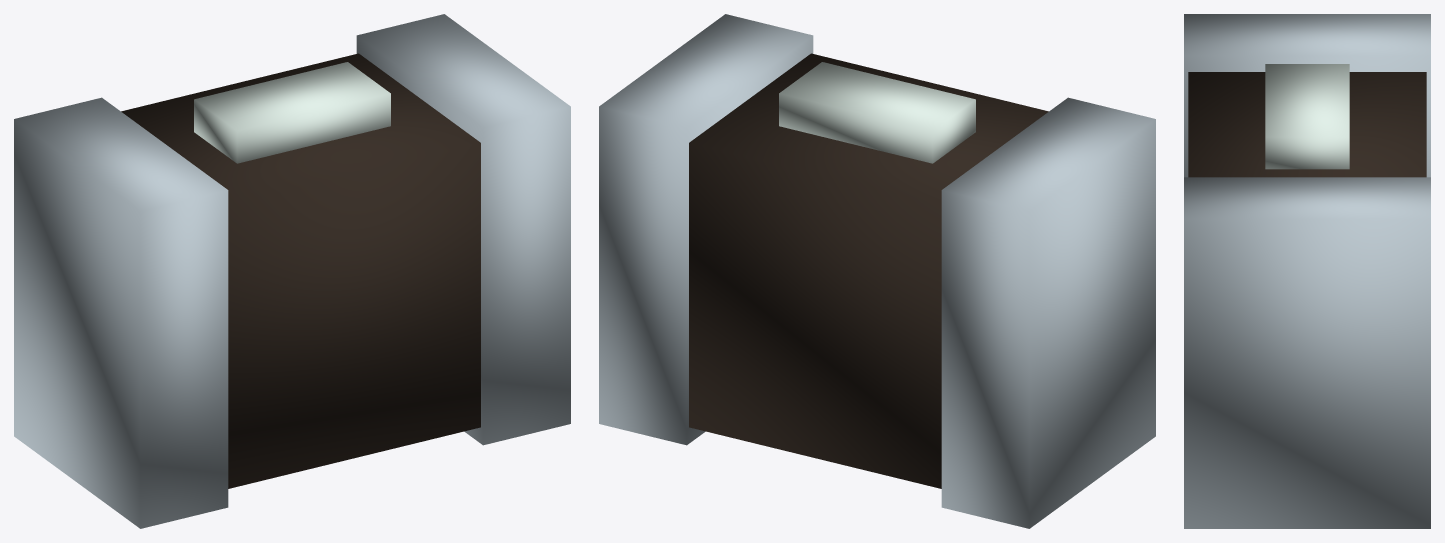
The model's file is 30_L94_R6_StatusLED_330R.fbx.
3 renders of one model, left to right at view 1: azimuth 30°, elevation 25°; view 2: azimuth 150°, elevation 25°; view 3: azimuth 270°, elevation 25°, orthographic. The views are drawn at different scales.
Visible parts, largest first — view 1: L94_StatusLED_330R_Part_0001, L94_StatusLED_330R_Part_0000, L94_StatusLED_330R_Part_0002; view 2: L94_StatusLED_330R_Part_0001, L94_StatusLED_330R_Part_0000, L94_StatusLED_330R_Part_0002; view 3: L94_StatusLED_330R_Part_0001, L94_StatusLED_330R_Part_0000, L94_StatusLED_330R_Part_0002.
Part boxes in pixels (x1=…): L94_StatusLED_330R_Part_0001: x1=14, y1=14, x2=570, y2=528; L94_StatusLED_330R_Part_0000: x1=121, y1=53, x2=480, y2=488; L94_StatusLED_330R_Part_0002: x1=194, y1=62, x2=390, y2=163; L94_StatusLED_330R_Part_0001: x1=599, y1=14, x2=1155, y2=528; L94_StatusLED_330R_Part_0000: x1=689, y1=53, x2=1048, y2=488; L94_StatusLED_330R_Part_0002: x1=779, y1=62, x2=975, y2=163; L94_StatusLED_330R_Part_0001: x1=1184, y1=14, x2=1430, y2=528; L94_StatusLED_330R_Part_0000: x1=1188, y1=72, x2=1426, y2=177; L94_StatusLED_330R_Part_0002: x1=1265, y1=64, x2=1349, y2=169.
Size of the model in its own units: 4.12 by 3.05 by 2.09.
